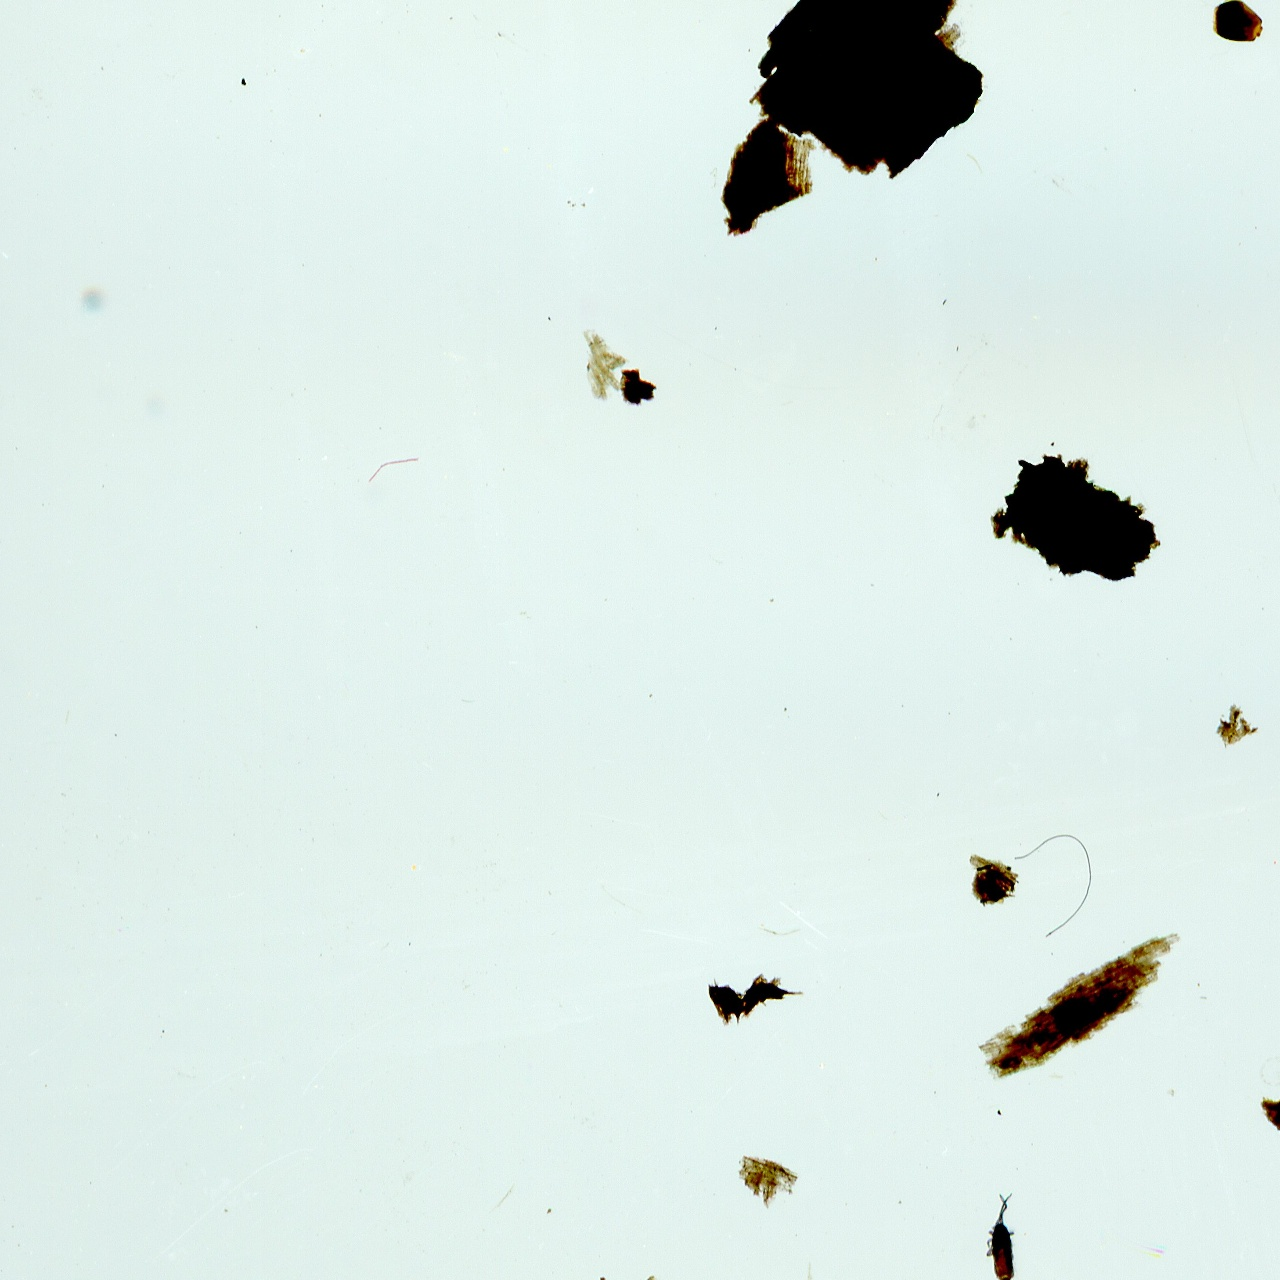arthropod: (983, 1190, 1020, 1280)
